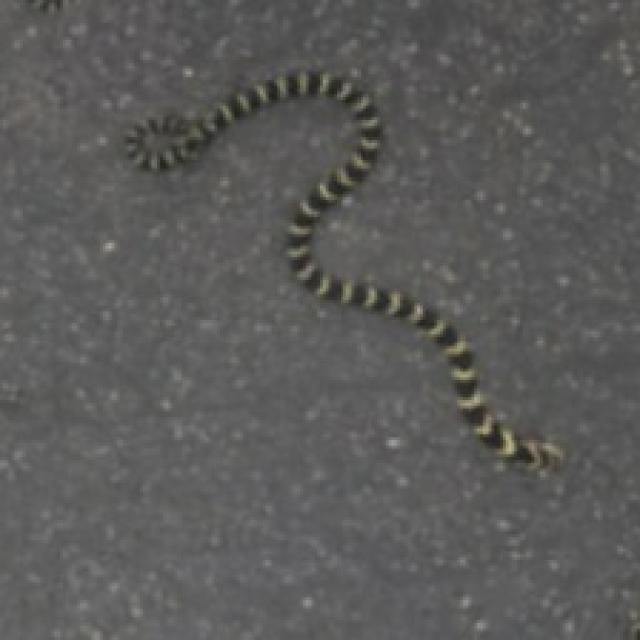king cobra: (126, 71, 563, 469)
